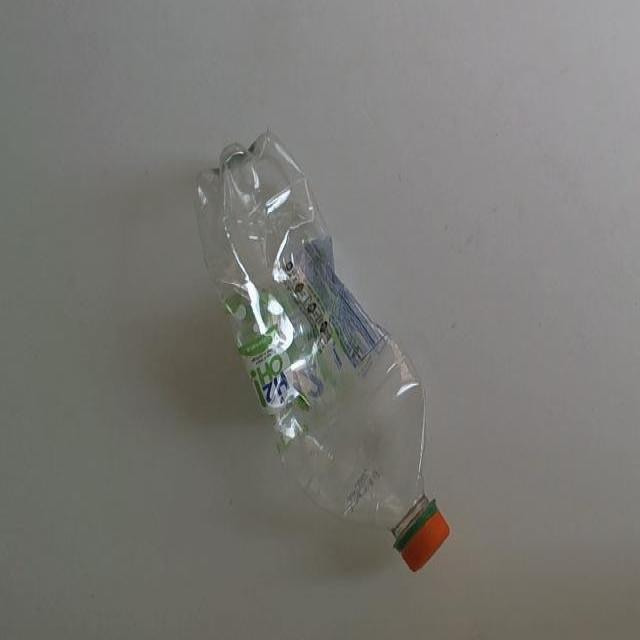defect: (189, 128, 453, 578)
